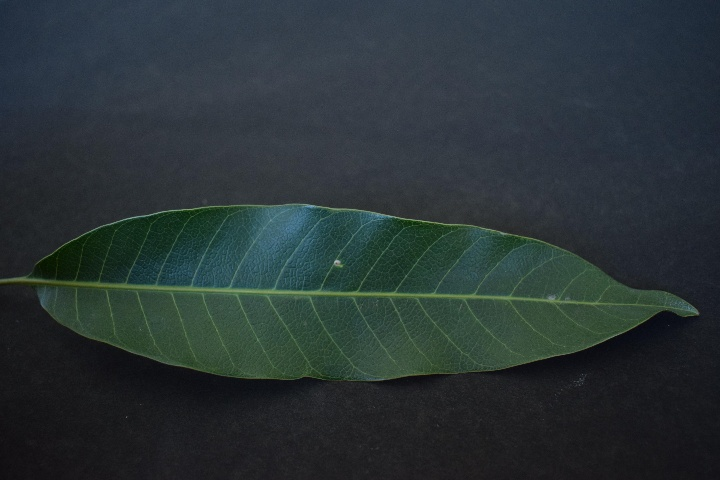healthy: (44, 207, 670, 380)
